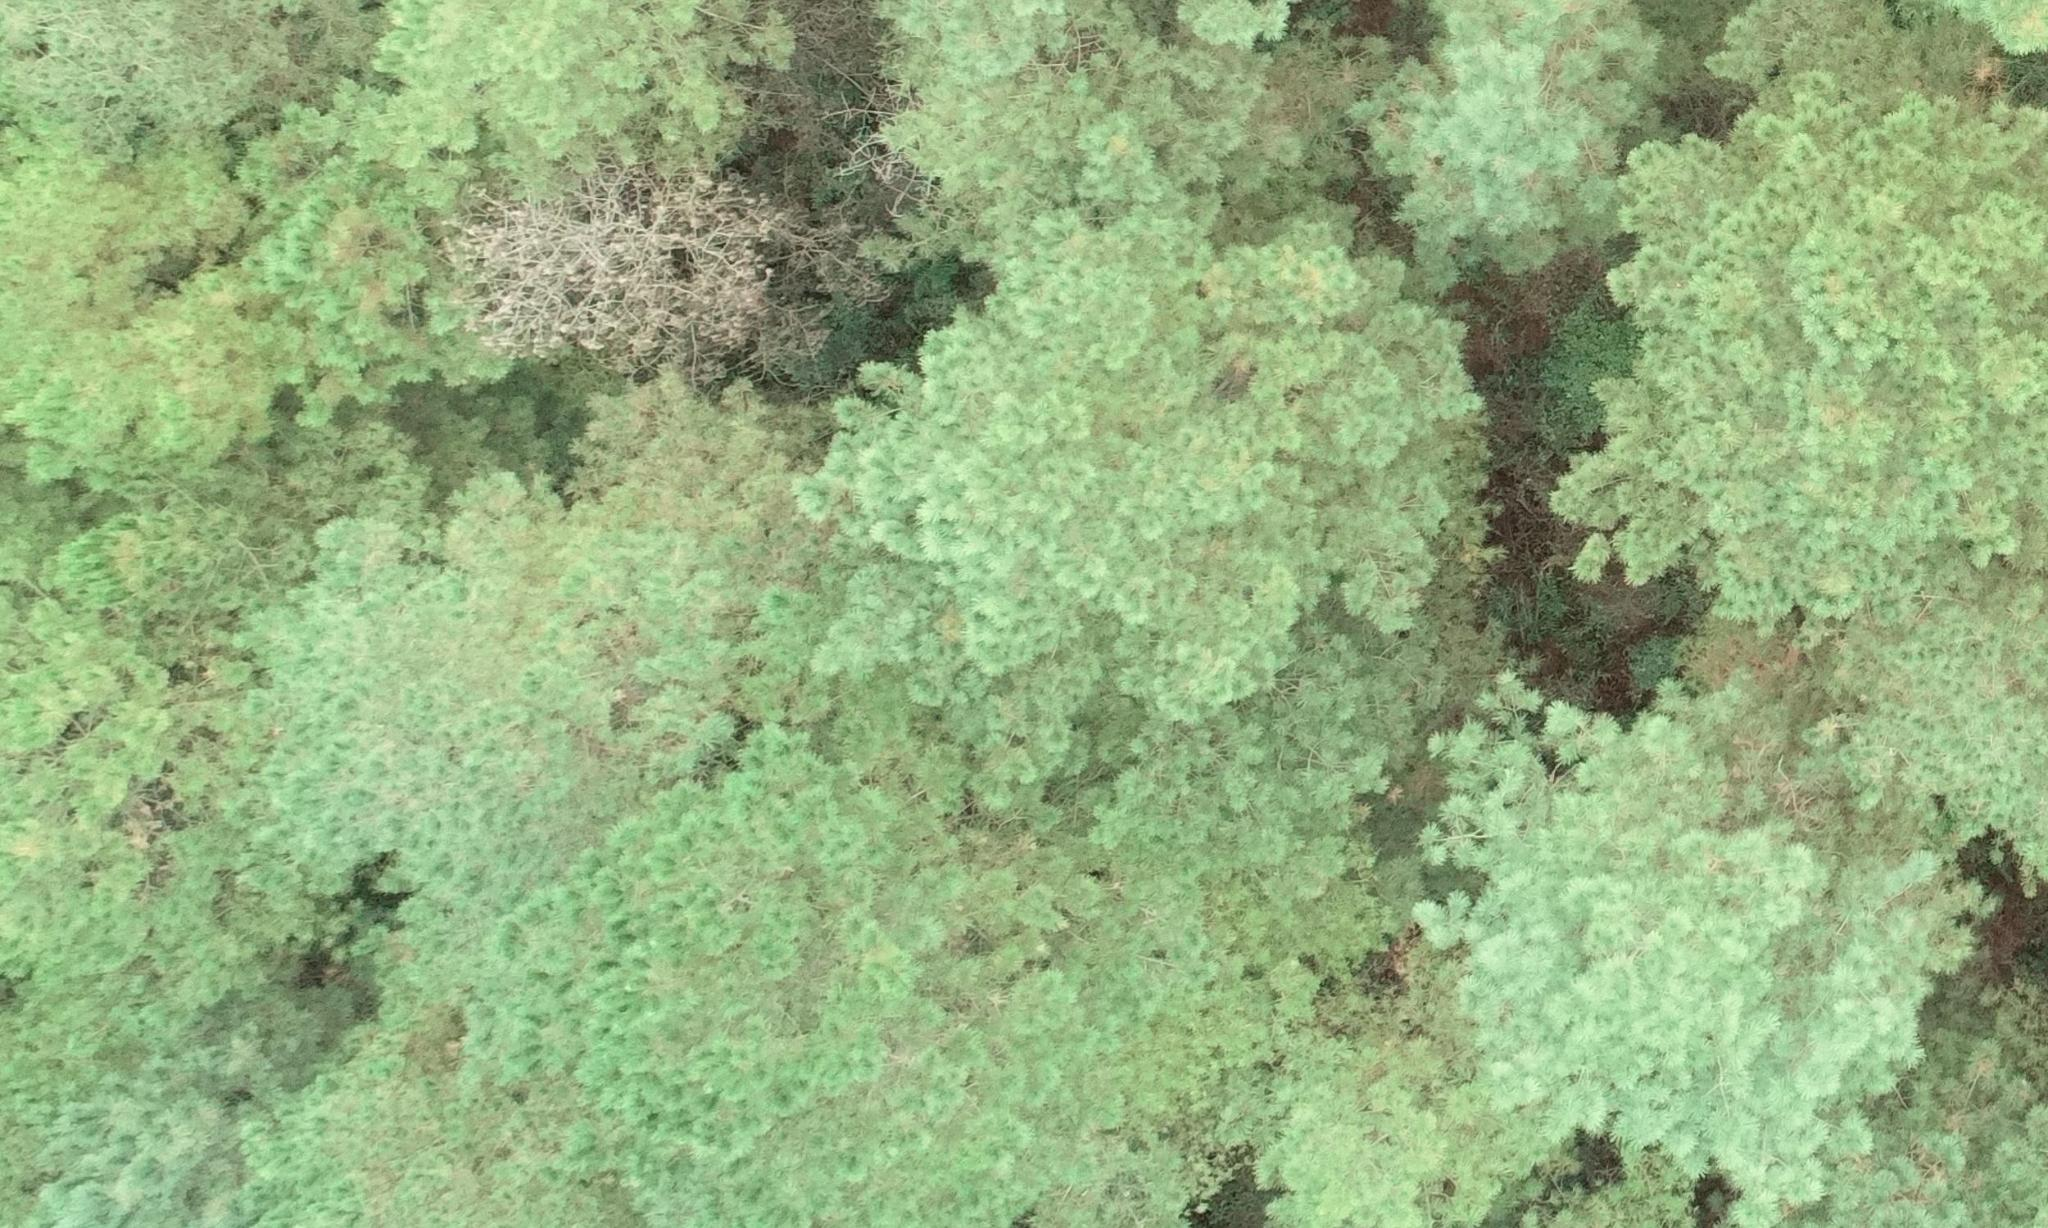dead: (452, 167, 865, 380)
